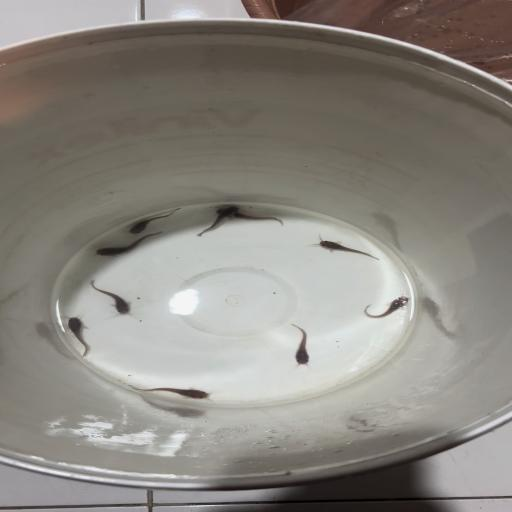lele: (94, 230, 170, 258), (312, 233, 380, 264), (86, 279, 138, 319), (121, 206, 186, 235), (125, 382, 215, 402), (59, 312, 95, 359), (194, 202, 238, 240), (215, 206, 288, 228), (355, 294, 413, 320), (286, 323, 315, 370)
